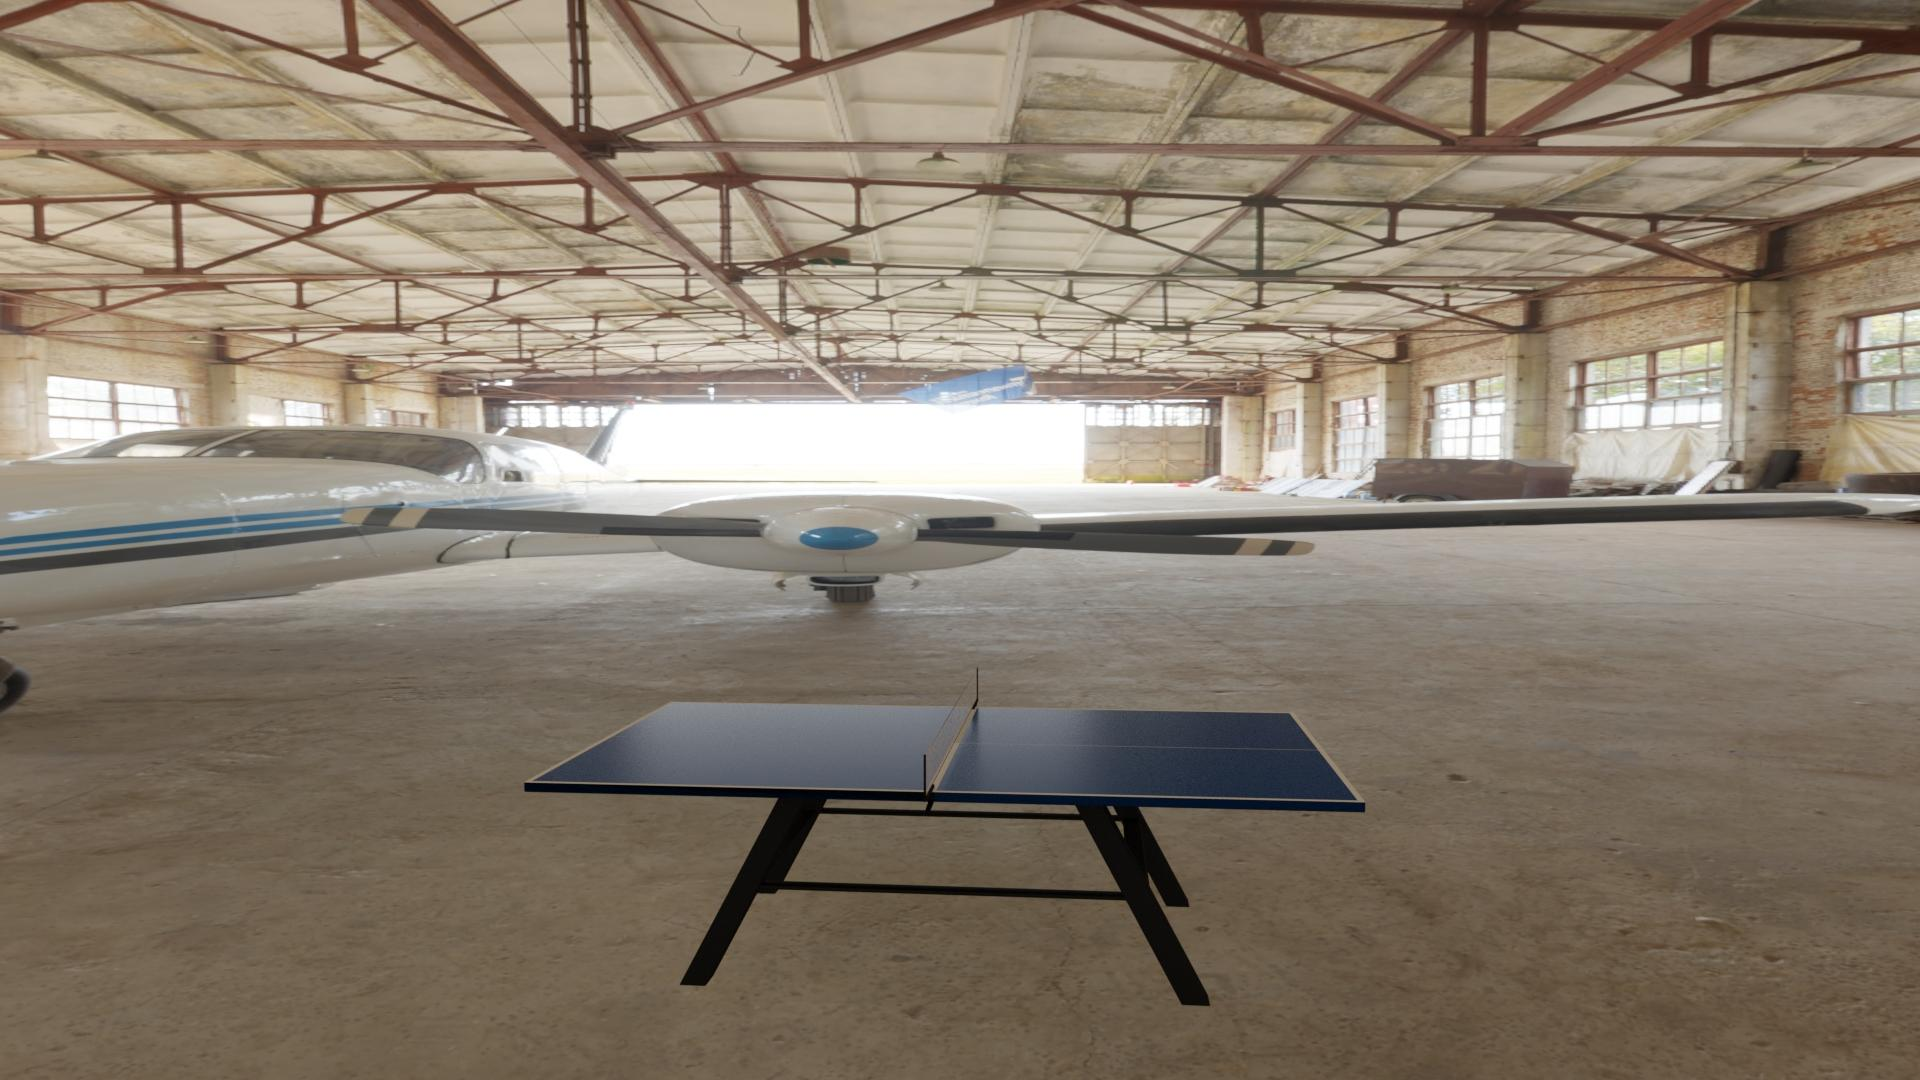table: (531, 703, 1358, 800)
